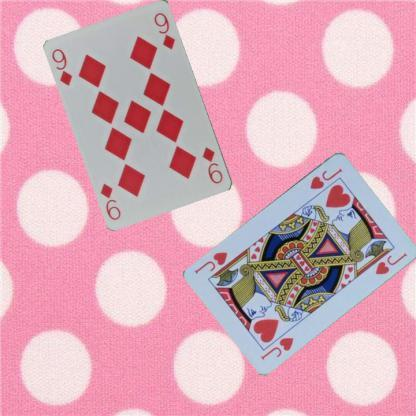9d: (199, 144, 224, 186), (49, 45, 74, 87)
Jh: (258, 334, 294, 361), (307, 164, 344, 190)
